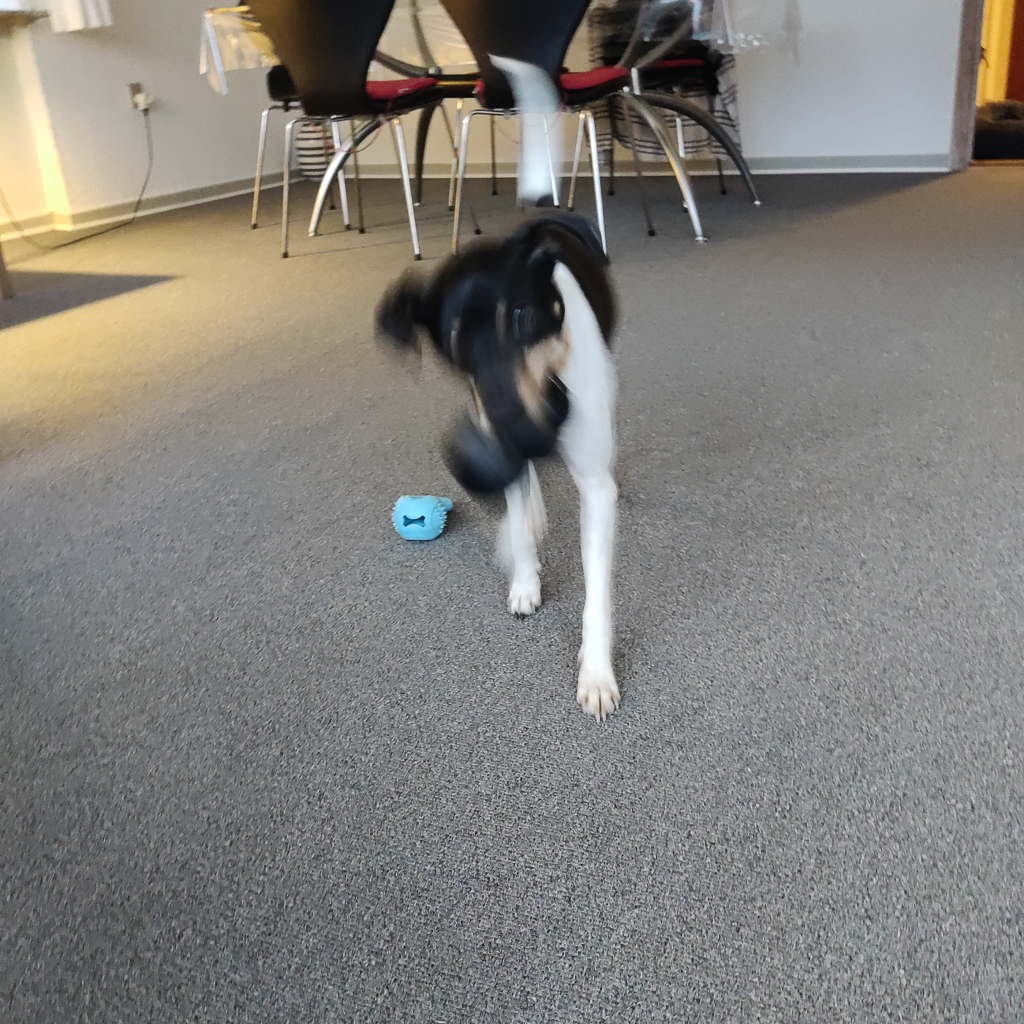Dog: (338, 26, 689, 745)
